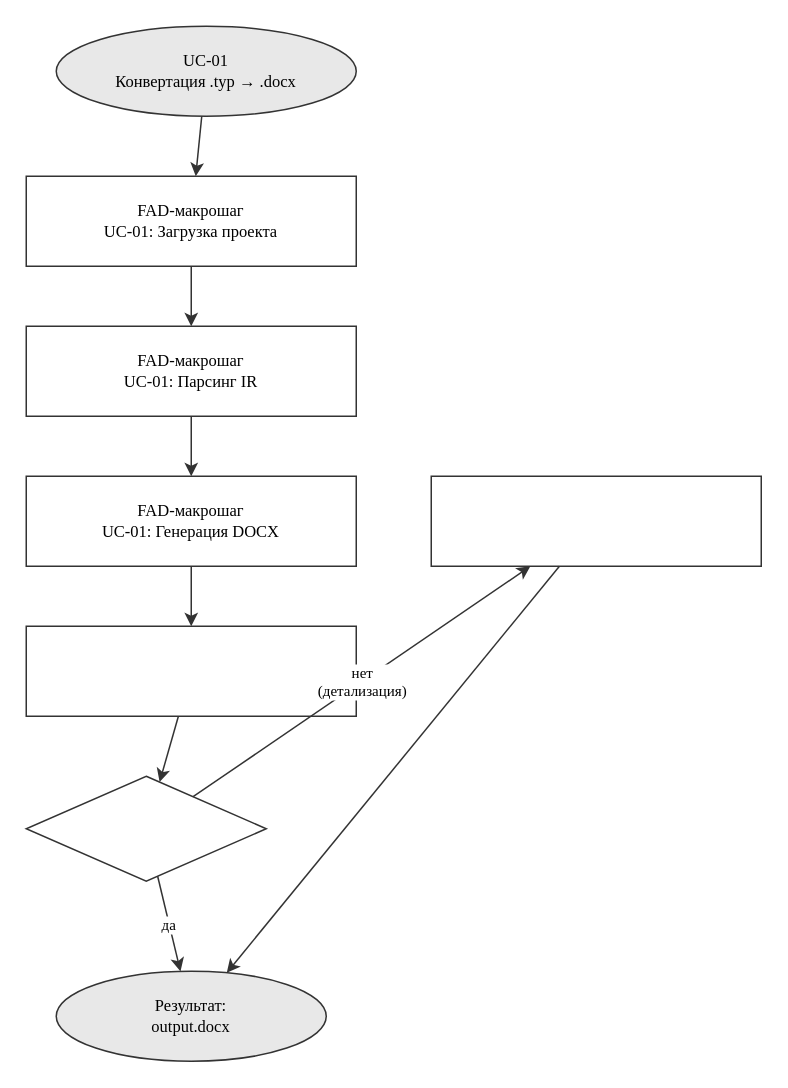
Image size: 788x1088. Some labels were removed from this diagram. Here are the shapes that lost their labels. From the top down, the centre of each, then its label:
the point at 595,520: FAD-микрошаг (tokenize, build IR, write DOCX)
the point at 190,670: FAD-макрошаг UC-01: Валидация стилей
the point at 145,828: Все FAD готовы?
